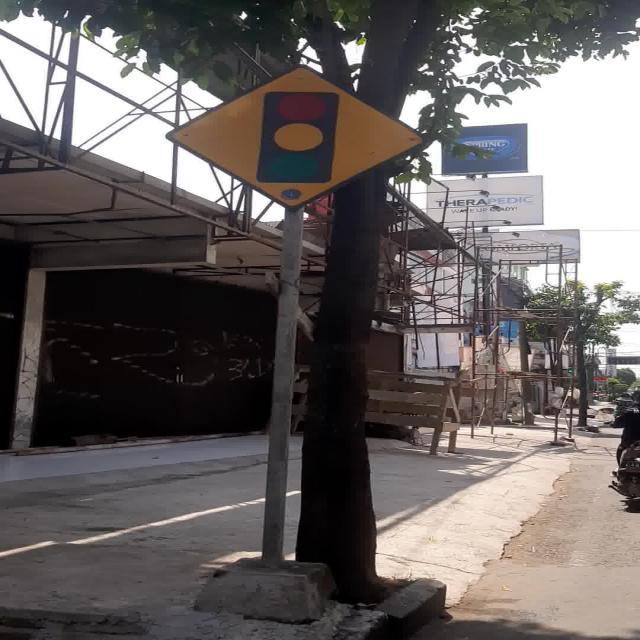Lampu Lalu Lintas: (165, 64, 428, 211)
